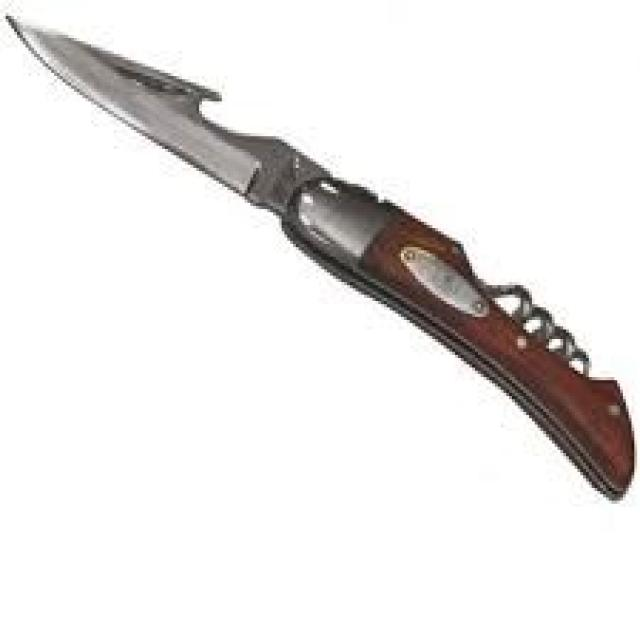knife: (1, 1, 638, 511)
